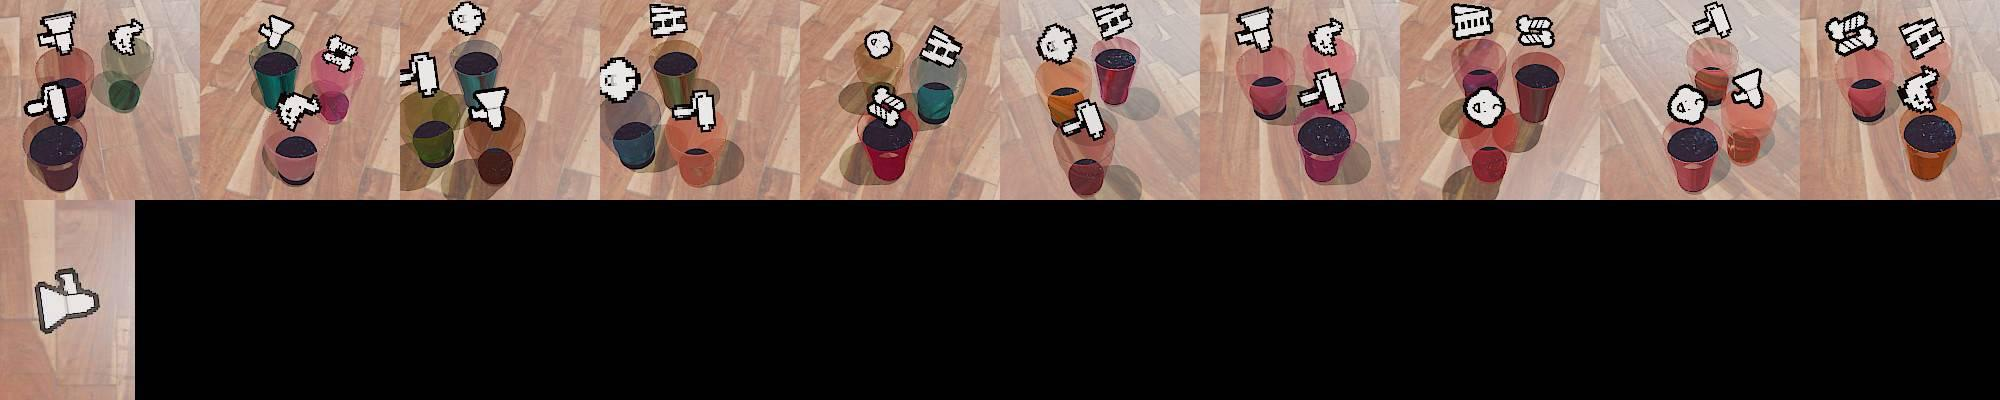icon: (32, 266, 101, 334), (1824, 11, 1878, 59), (1297, 66, 1348, 113), (597, 55, 642, 103), (23, 80, 74, 122), (672, 87, 718, 132), (1899, 17, 1945, 62), (1059, 94, 1106, 139), (918, 24, 963, 70), (1898, 66, 1940, 115), (1235, 6, 1277, 55), (401, 51, 441, 98), (1462, 85, 1506, 127), (866, 84, 908, 127), (1036, 22, 1078, 65), (469, 85, 510, 130), (276, 92, 321, 131), (38, 11, 78, 56), (1450, 3, 1495, 42), (1667, 83, 1708, 125), (1091, 1, 1134, 41), (648, 1, 689, 39), (1515, 14, 1557, 51), (320, 33, 358, 73), (1691, 1, 1732, 38), (108, 18, 147, 56), (1730, 68, 1764, 110), (446, 1, 486, 37), (1307, 18, 1343, 57), (259, 14, 293, 51), (864, 29, 894, 59)
